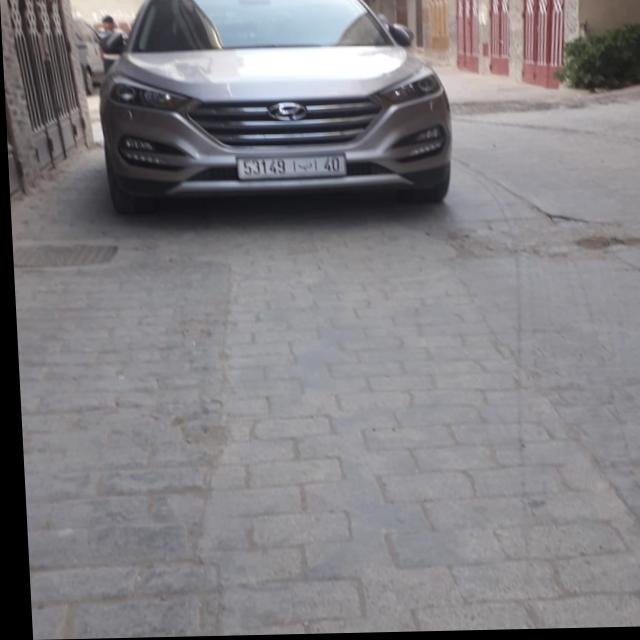License-Plate: (236, 157, 344, 179)
